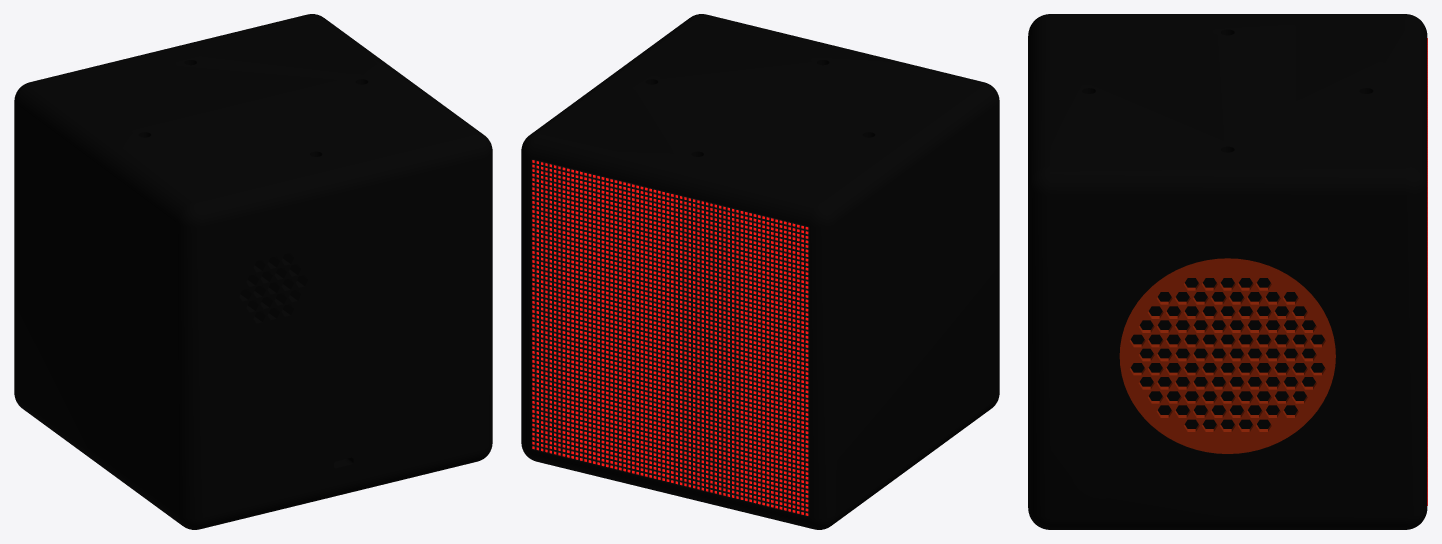
Rendered from THE_CUBE.glb.
3 views of the same model, side by side, from view 1: azimuth 30°, elevation 25°; view 2: azimuth 150°, elevation 25°; view 3: azimuth 270°, elevation 25° (orthographic). The views are drawn at different scales.
Visible parts, largest first — view 1: Cube; view 2: Cube, LED_Matrix, LEDS; view 3: Cube, Speaker_Grille, Cube.001, LEDS.
Boxes of the visible parts, x1,y1,x2,y2 form: Cube: (14,14,492,529); Cube: (521,14,999,529); LED_Matrix: (532,159,809,515); LEDS: (532,160,808,515); Cube: (1028,14,1427,529); Speaker_Grille: (1119,258,1335,453); Cube.001: (1130,278,1324,428); LEDS: (1427,38,1427,505).
Size of the model in its own units: 144 by 144 by 144.
